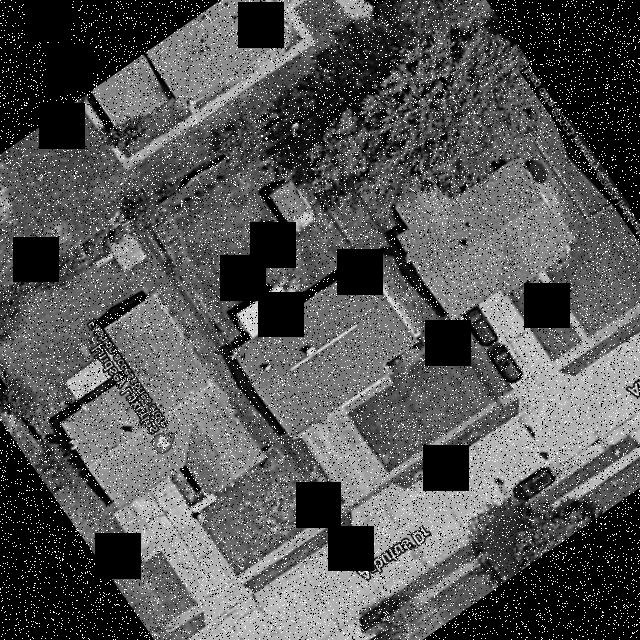Driveway: (300, 375, 390, 503)
Extra Driveway: (350, 484, 406, 526)
Extra Lawn: (391, 408, 510, 488), (334, 512, 351, 533)
House: (232, 261, 415, 437)
Other: (235, 285, 294, 338), (258, 181, 313, 231)
